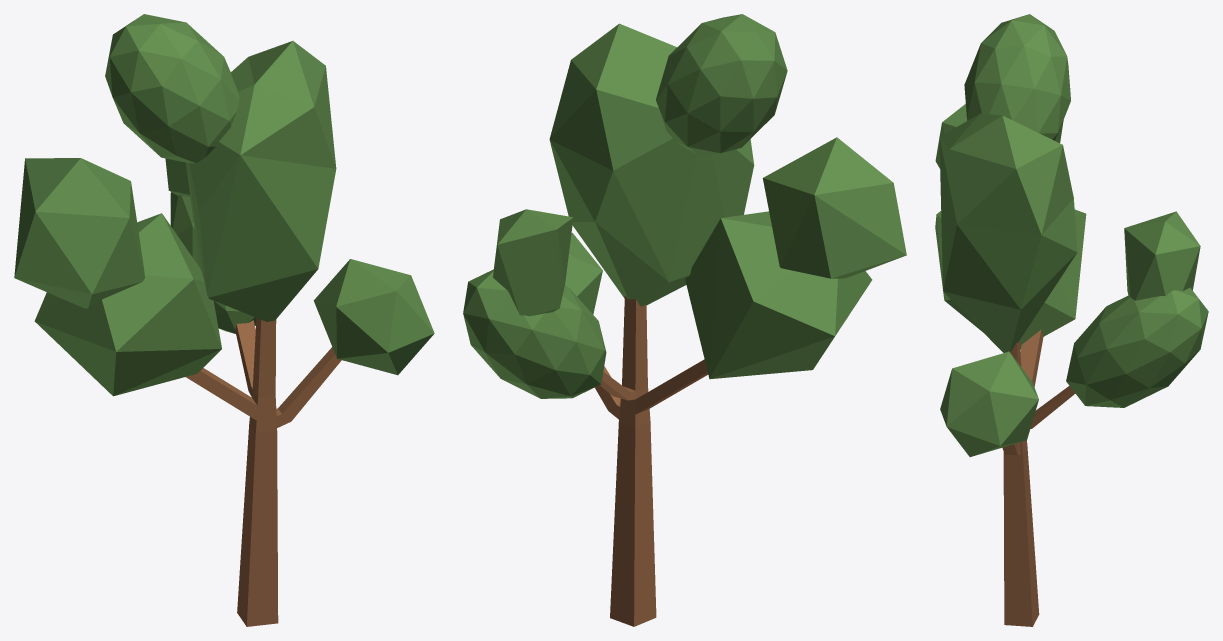
The model's file is Tree_182.fbx.
3 renders of one model, left to right at view 1: azimuth 30°, elevation 25°; view 2: azimuth 150°, elevation 25°; view 3: azimuth 270°, elevation 25°, orthographic. The views are drawn at different scales.
Parts seen in each view (by area): view 1: Tree 182; view 2: Tree 182; view 3: Tree 182.
Boxes of the visible parts, x1=… form: Tree 182: x1=14, y1=14, x2=434, y2=626; Tree 182: x1=463, y1=14, x2=906, y2=626; Tree 182: x1=935, y1=14, x2=1208, y2=626.
Bounding box in the file's own units: 261 × 389 × 174.
